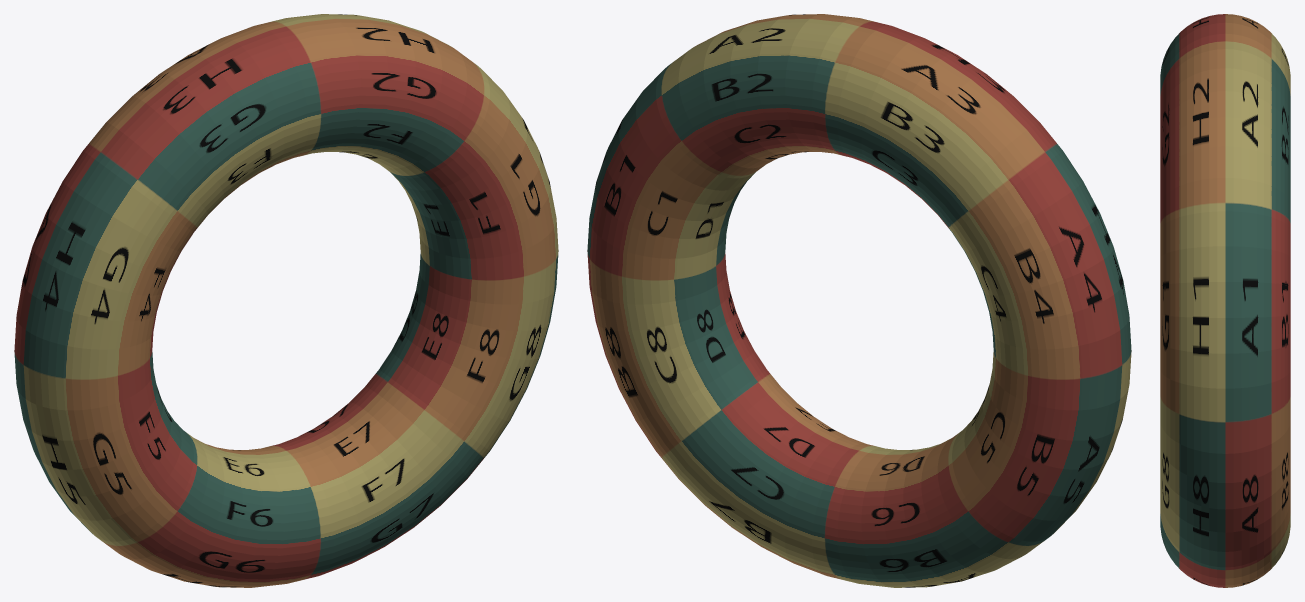
Rendered from texture_torus_R2_r5.glb.
3 views of the same model, side by side, from view 1: azimuth 30°, elevation 25°; view 2: azimuth 150°, elevation 25°; view 3: azimuth 270°, elevation 25° (orthographic). The views are drawn at different scales.
Parts seen in each view (by area): view 1: world; view 2: world; view 3: world.
Part boxes in pixels (x1,y1,x2,y2): world: (14,14,558,587); world: (587,14,1131,587); world: (1160,14,1290,587).
Size of the model in its own units: 14.67 by 14.64 by 3.33.
Materials: 1 (1 with a texture image).
